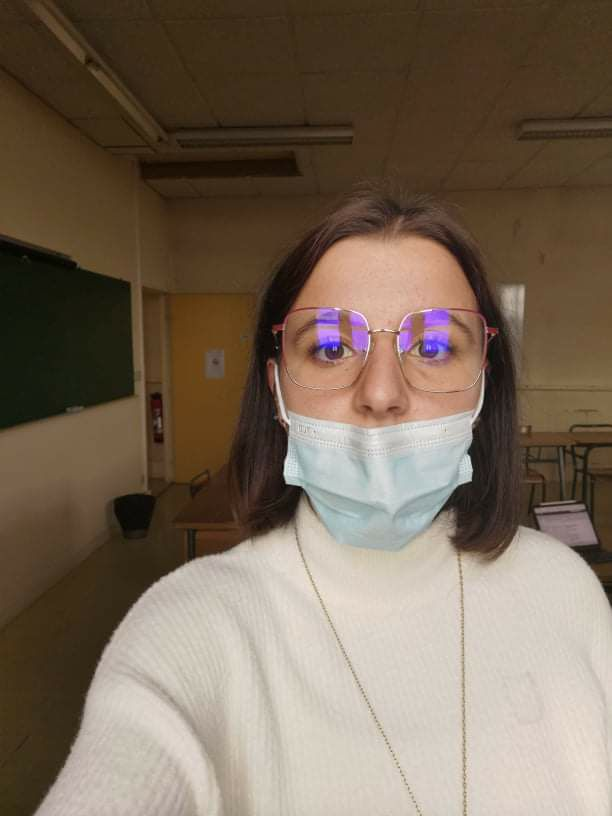with_incorrect_mask: (249, 205, 516, 545)
